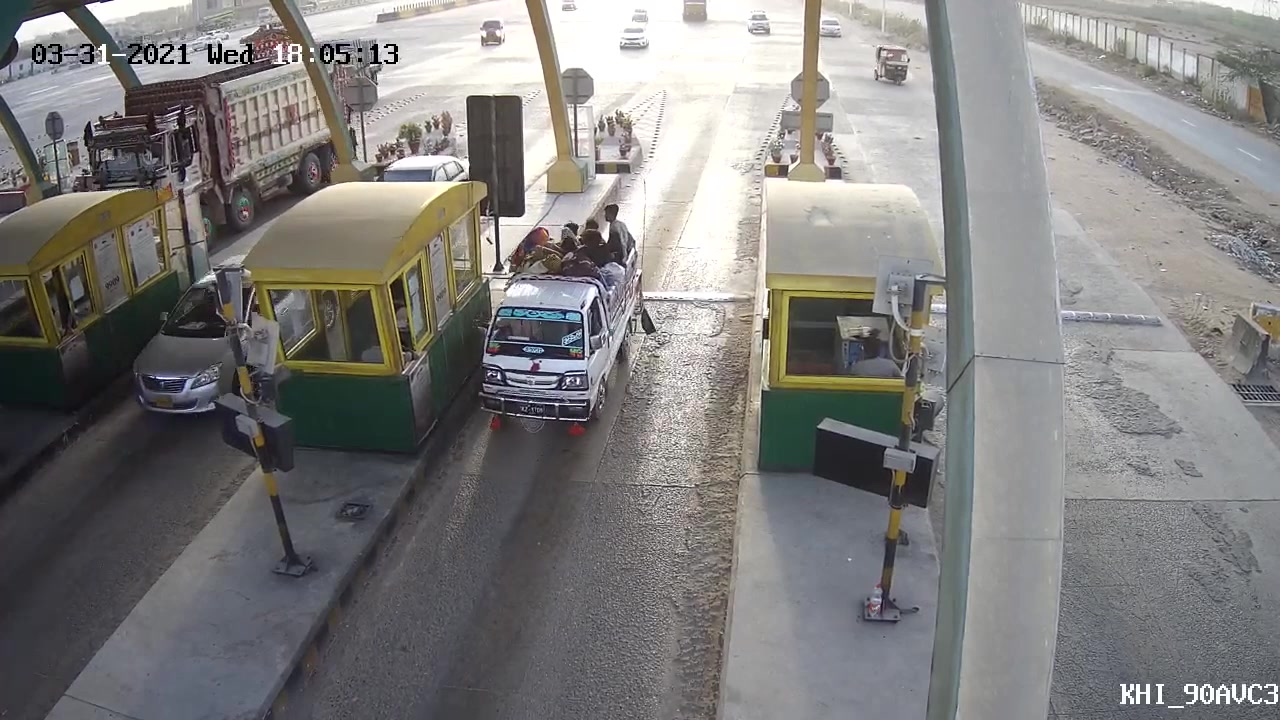F2: (469, 199, 653, 444)
